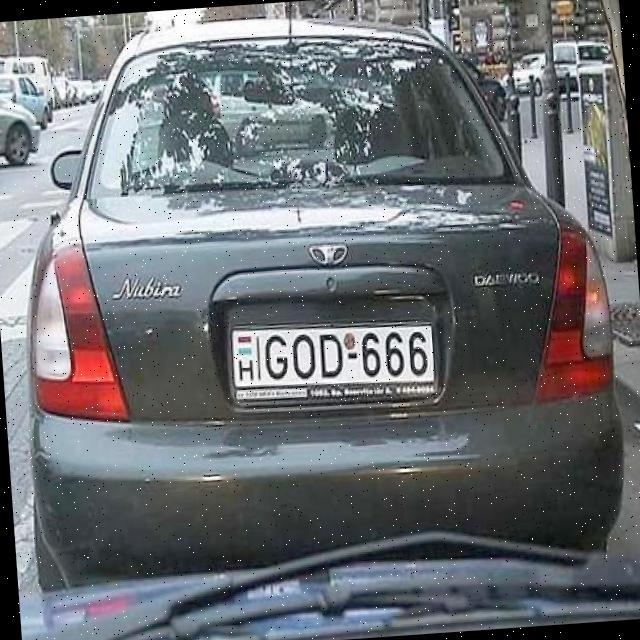licence: (230, 314, 440, 409)
